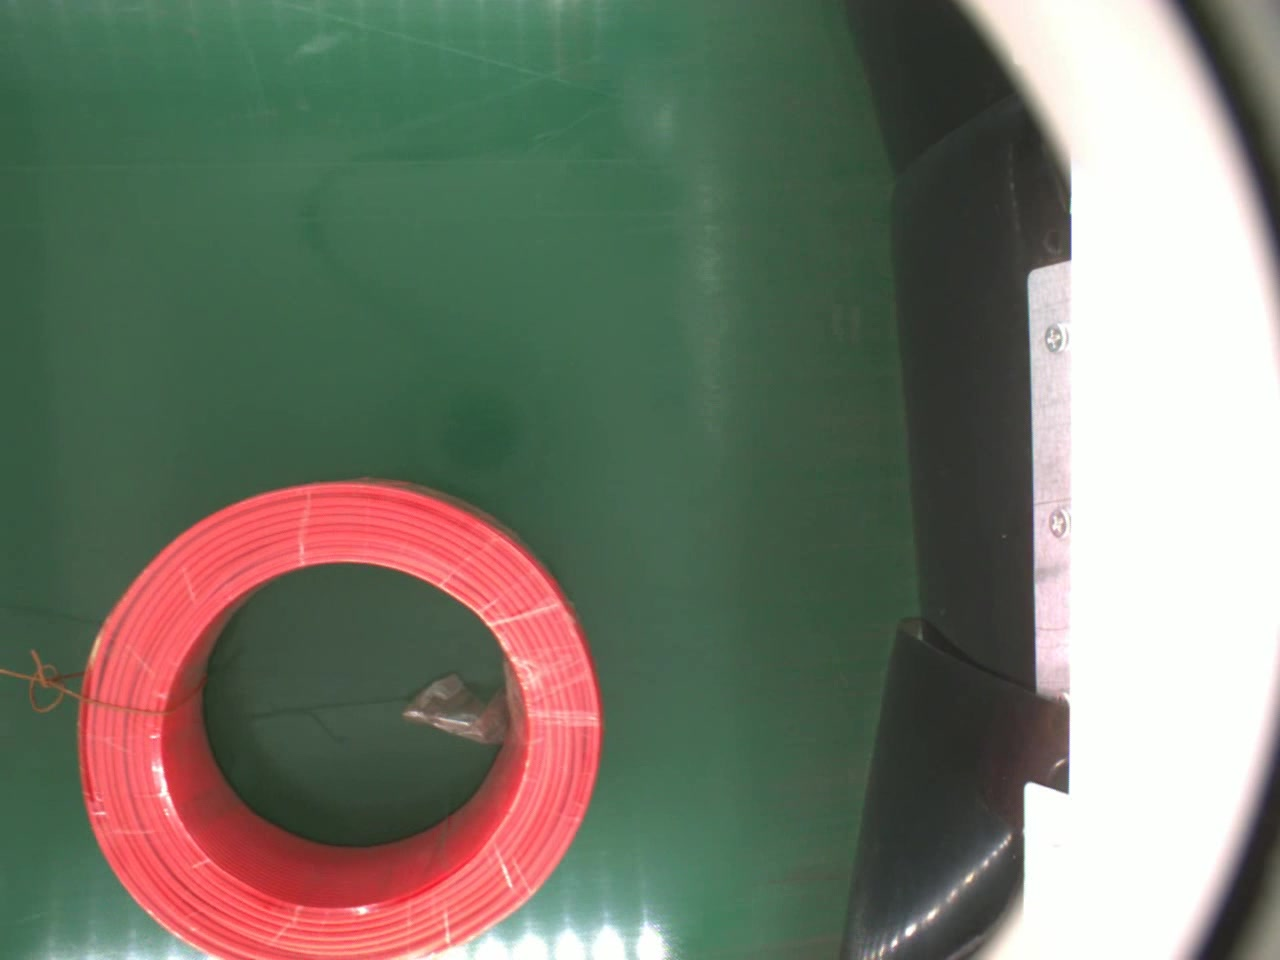red: (71, 474, 612, 960)
